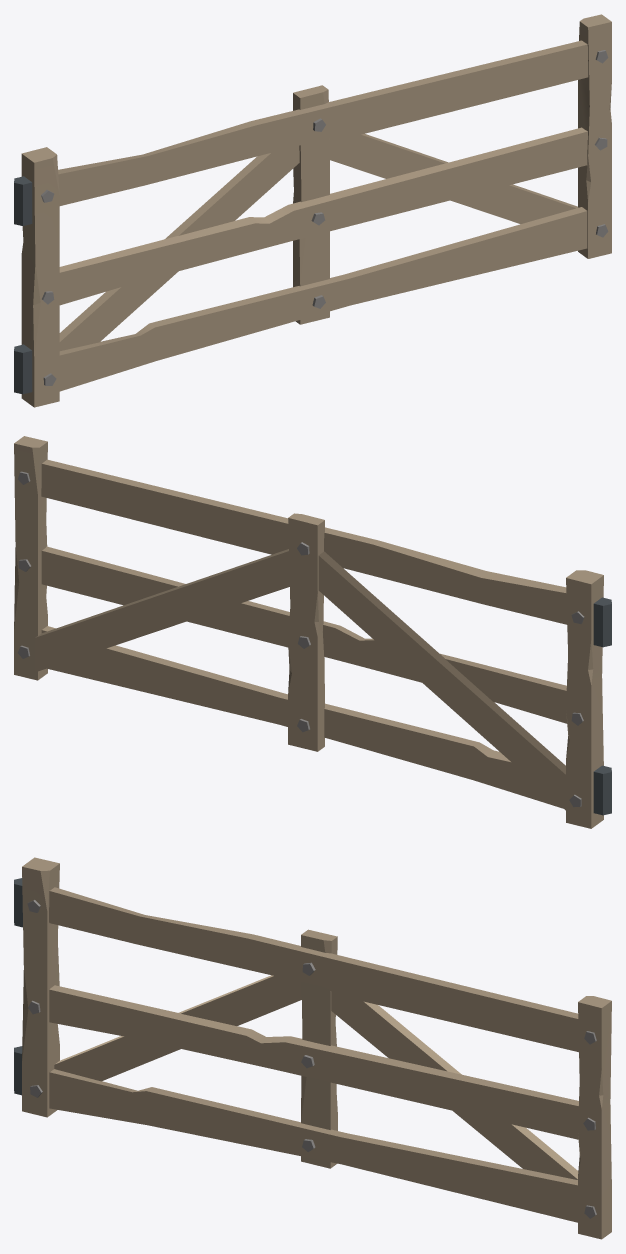
Rendered from prop_fence_gate.gltf.
3 renders of one model, top to bottom at view 1: azimuth 30°, elevation 25°; view 2: azimuth 150°, elevation 25°; view 3: azimuth 330°, elevation 25°, orthographic.
Visible parts, largest first — view 1: prop_fence_gate; view 2: prop_fence_gate; view 3: prop_fence_gate.
Part boxes in pixels (x1,y1,x2,y2): prop_fence_gate: [14, 14, 611, 407]; prop_fence_gate: [14, 436, 611, 828]; prop_fence_gate: [14, 857, 611, 1239].
Bounding box in the file's own units: 2.64 × 1.04 × 0.1291.
1 material, 1 textured.
